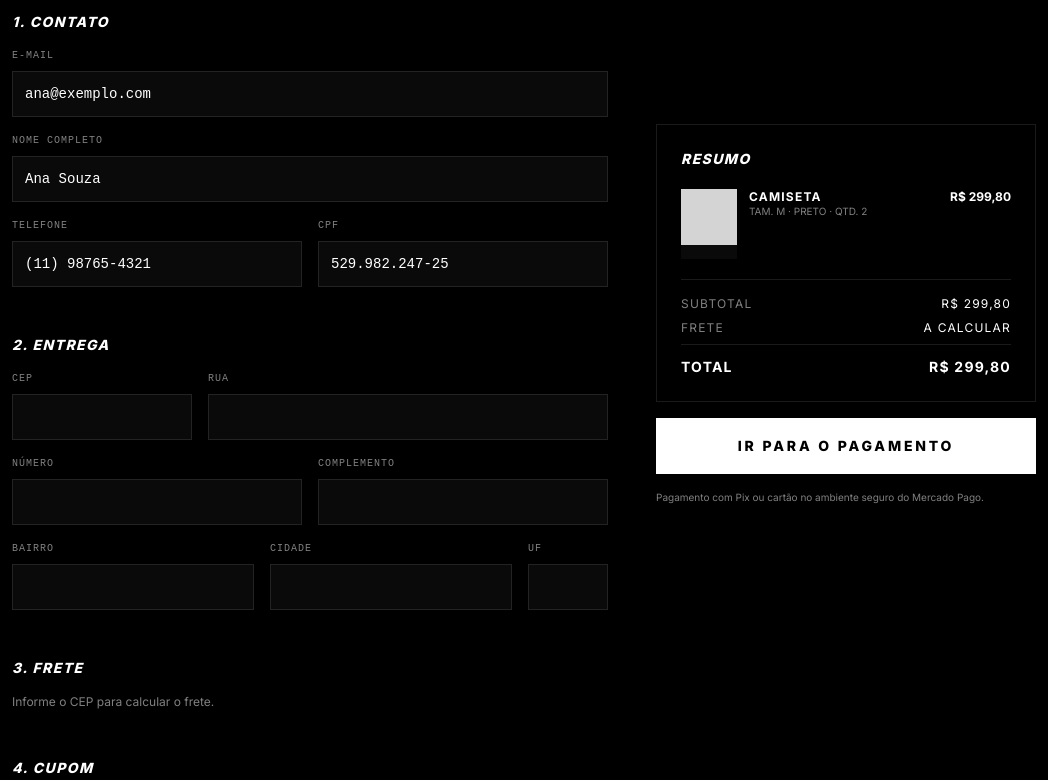
Test case: checkout › não envia com CPF inválido e mostra o erro no campo
Expected: the text "Camiseta" is shown, [749,189,822,204]
Step 1. Type "01001000" into the field labelled "CEP" → [102, 417], box [12,394,192,440]
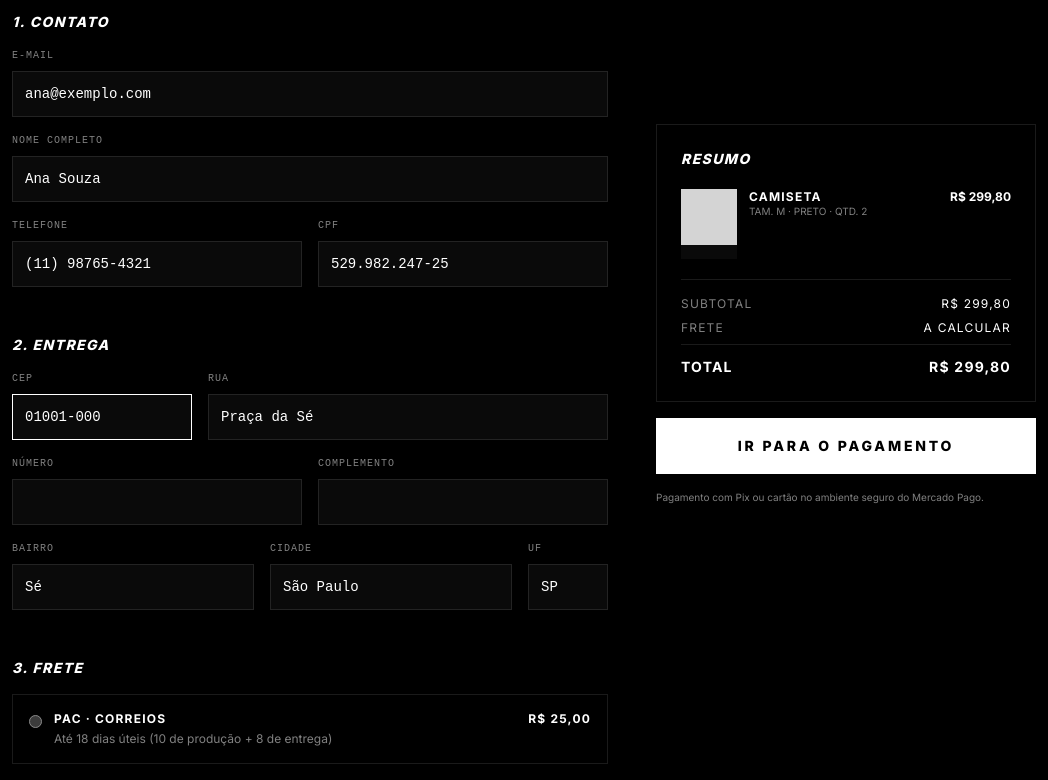
Step 2. Type "100" into the field labelled "Número" → [157, 502], box [12,479,302,525]
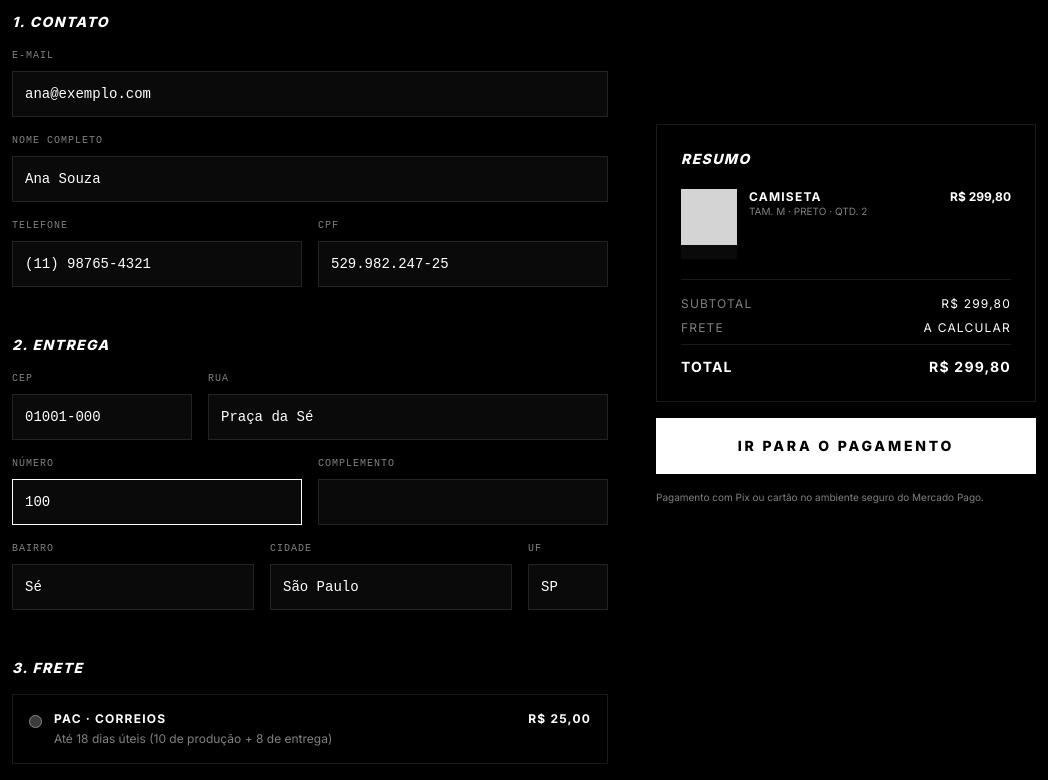
Step 3. Click the radio button labelled "PAC" → [36, 722], box [29,715,42,728]
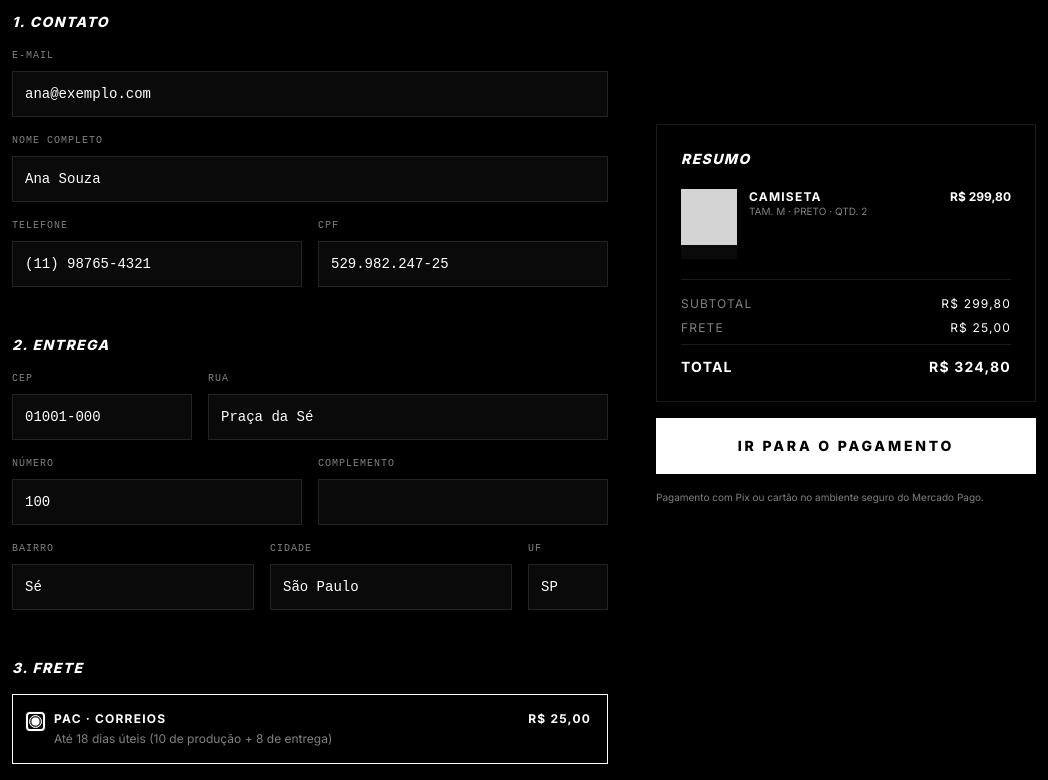
Step 4. Replace the text in the field labelled "CPF" with "11111111111" → [463, 264], box [318,241,608,287]
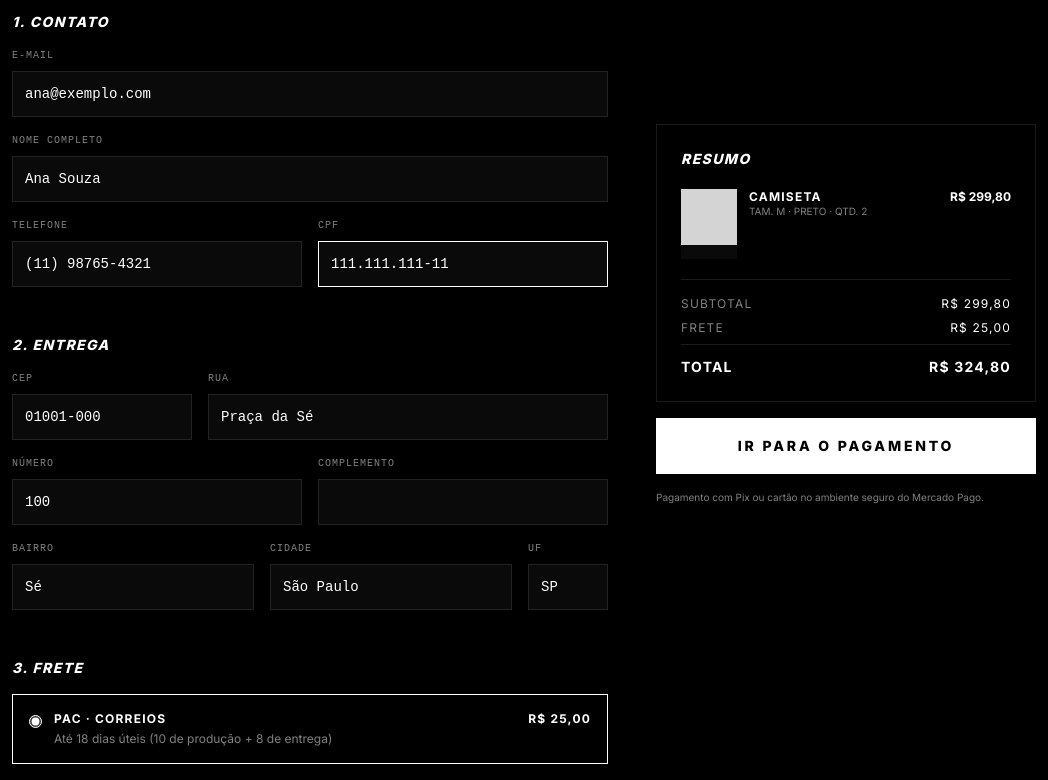
Step 5. Click the button "Ir para o pagamento" → [846, 446], box [656,418,1036,474]
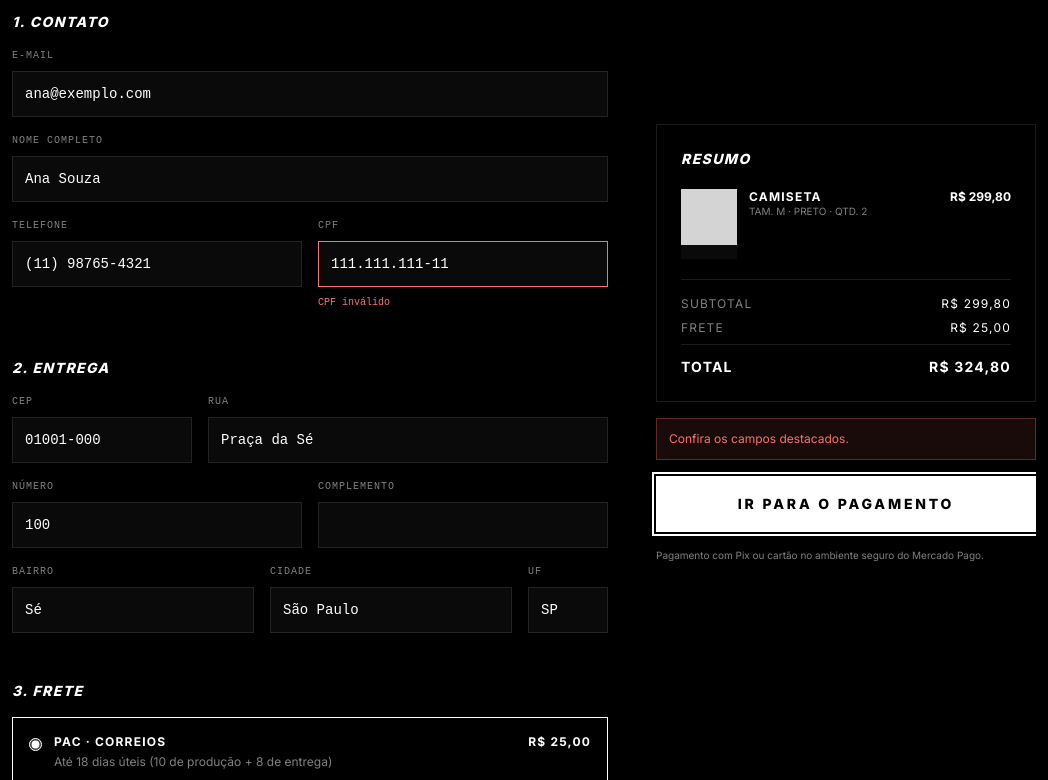
Expected: the text "CPF inválido" is shown, [318,297,390,308]
